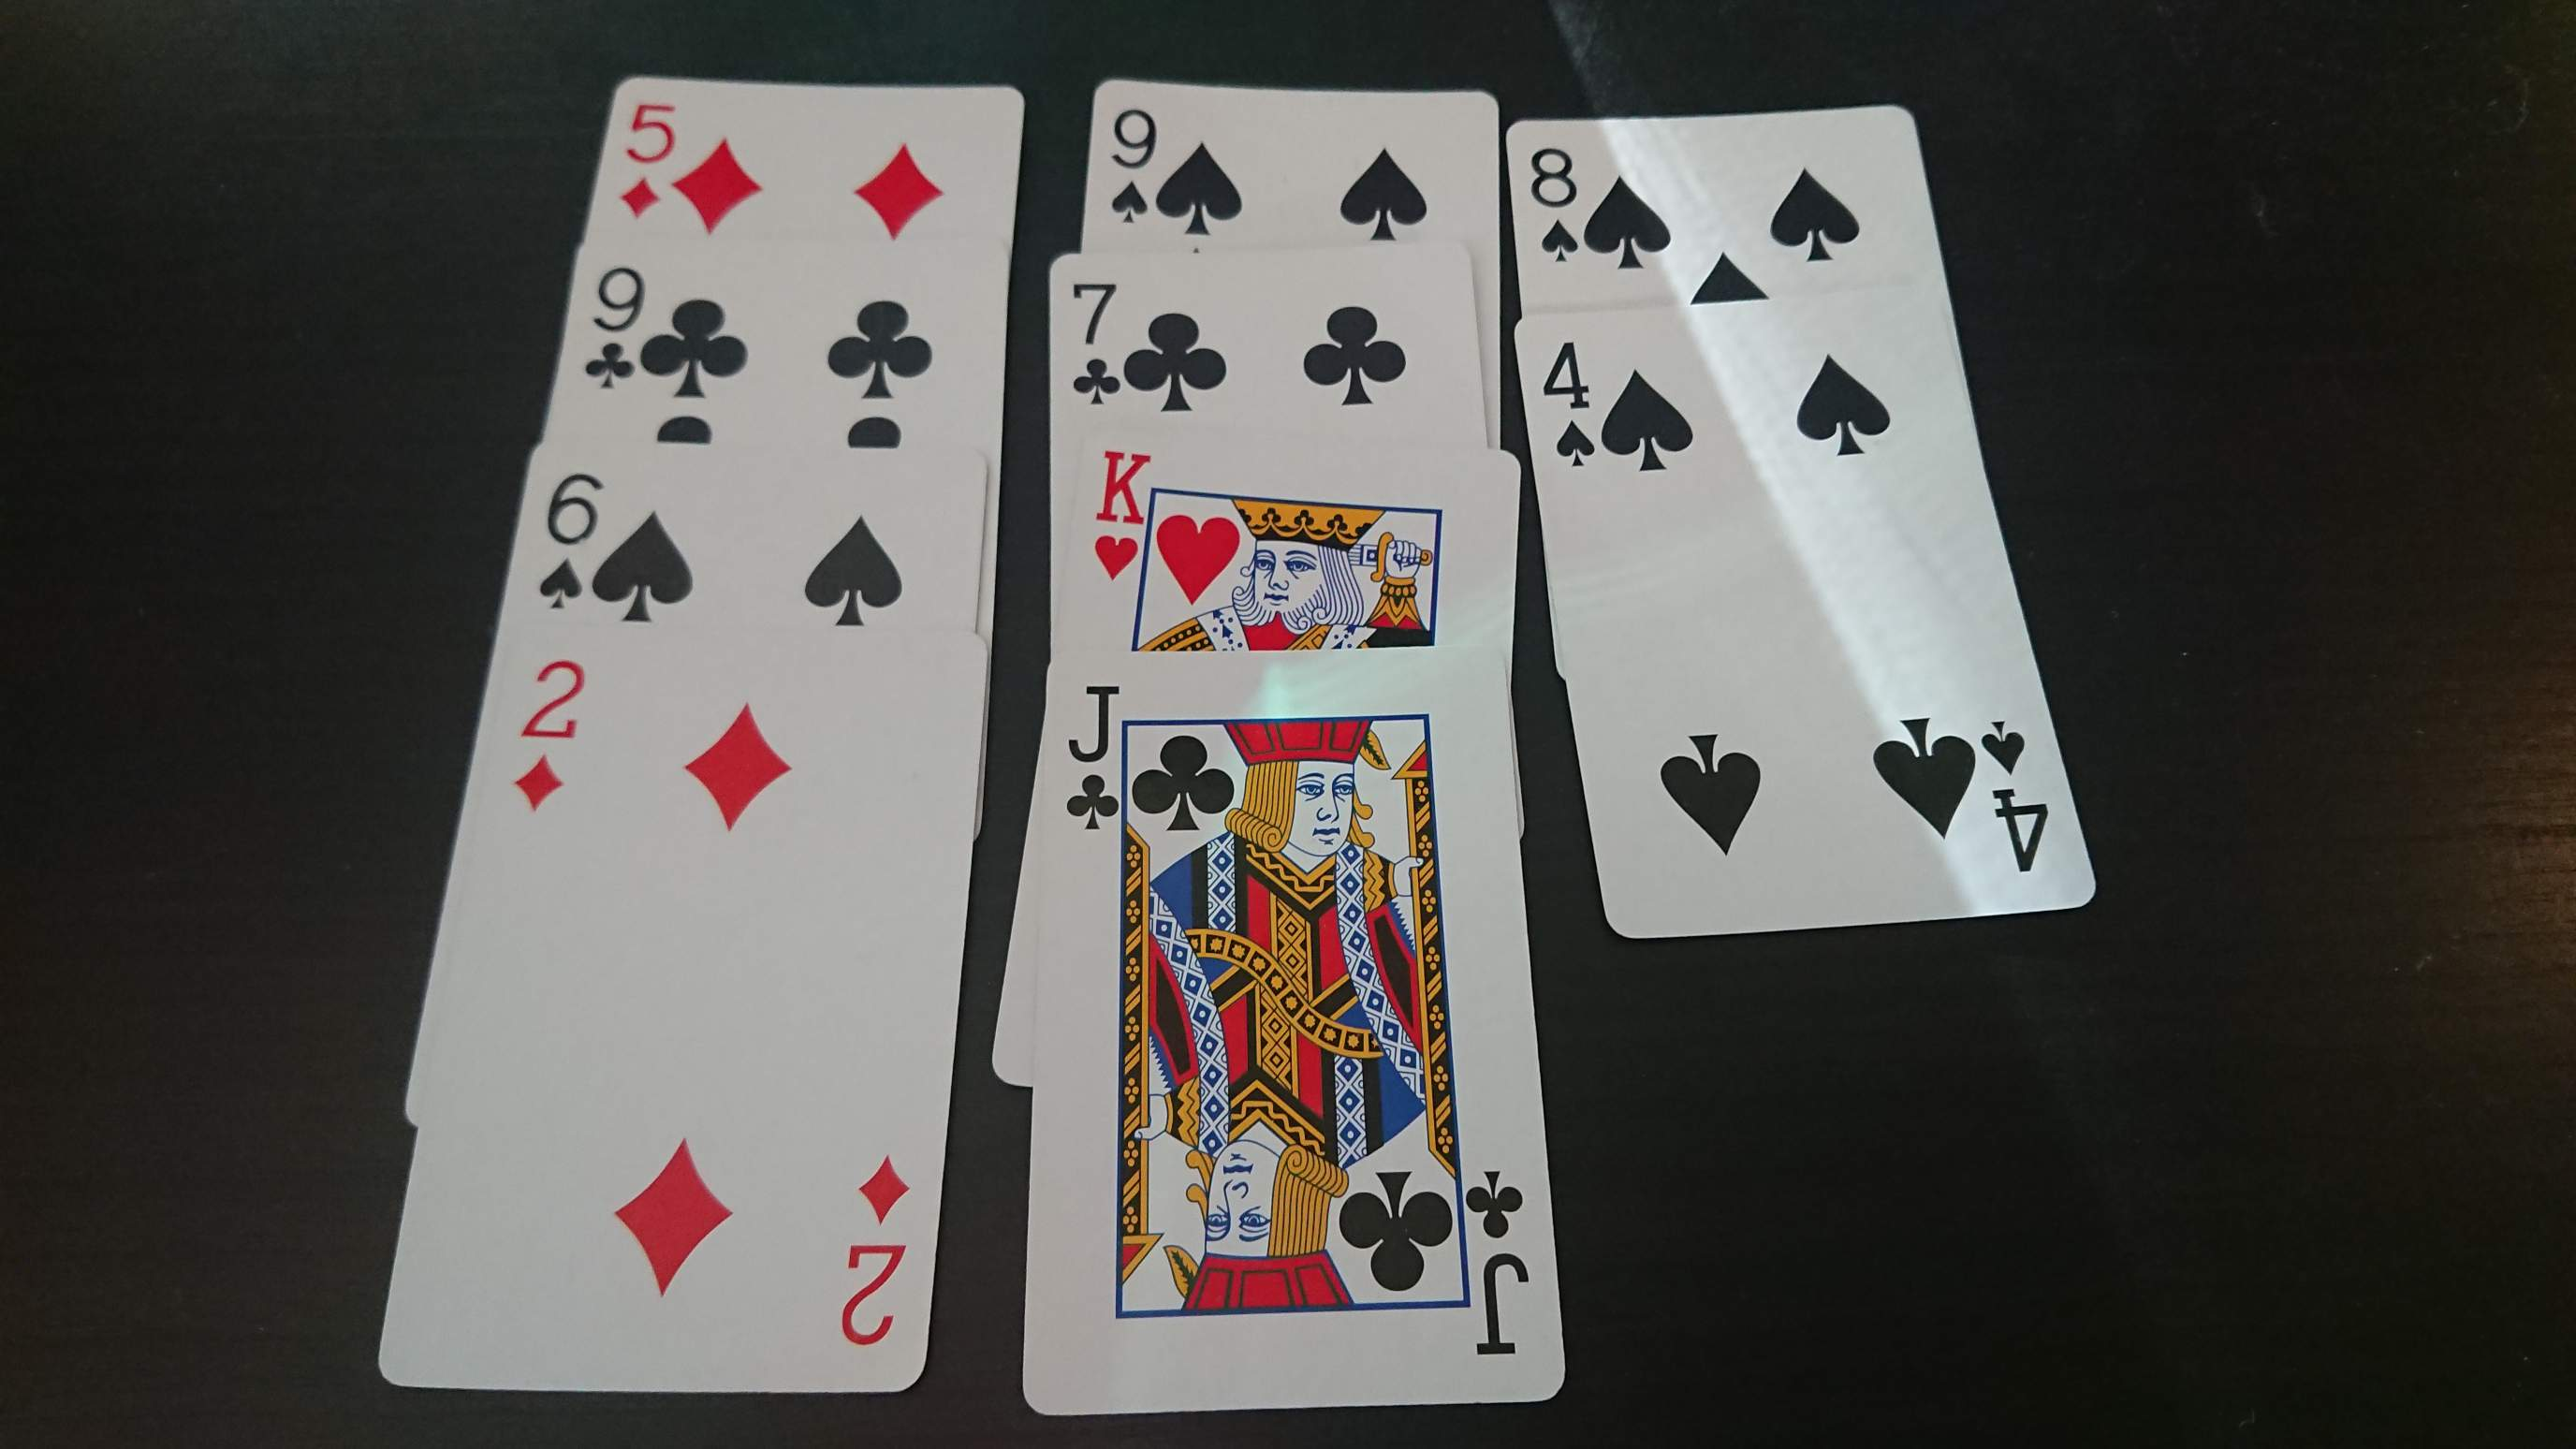2D: (506, 656, 591, 816)
4S: (1537, 336, 1601, 472)
5D: (616, 97, 679, 221)
6S: (534, 469, 605, 612)
7C: (1067, 280, 1123, 412)
8S: (1523, 142, 1585, 265)
9C: (582, 262, 648, 395)
9S: (1106, 103, 1159, 230)
JC: (1060, 678, 1123, 833)
KH: (1090, 444, 1154, 587)
